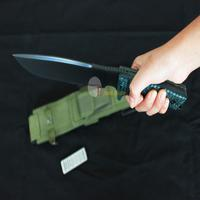knife: (6, 43, 190, 109)
